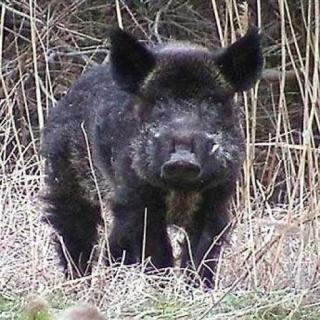Pig: (39, 11, 290, 270)
